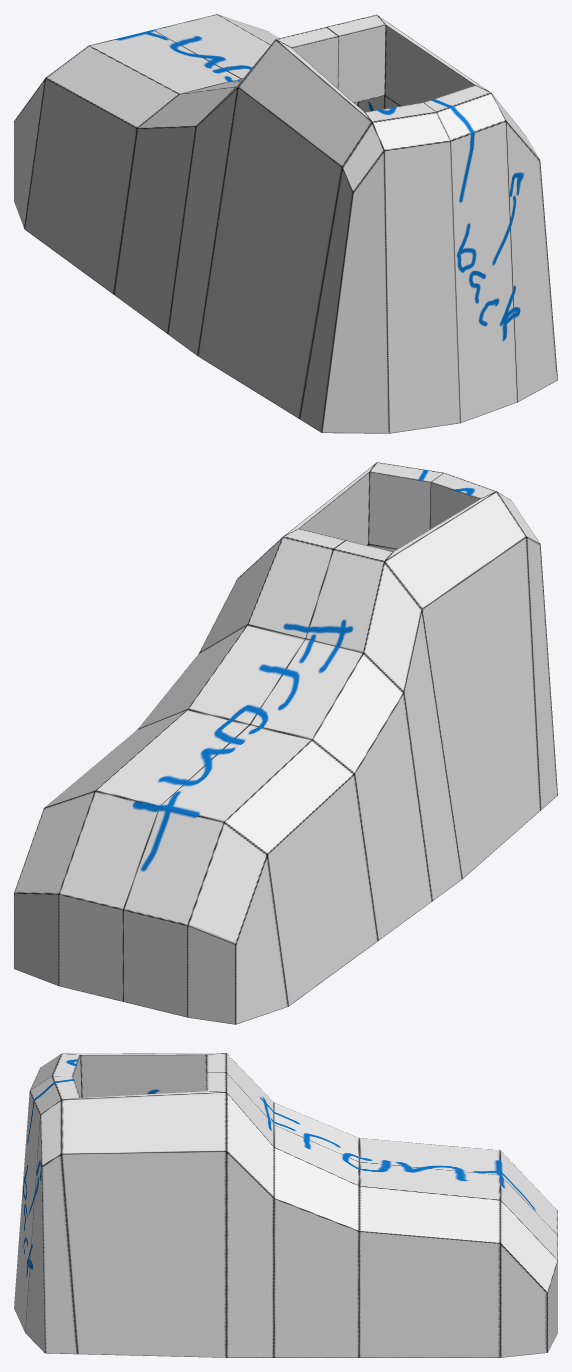
Rendered from sko.fbx.
The picture shows the model from 3 angles, top to bottom: view 1: azimuth 30°, elevation 25°; view 2: azimuth 150°, elevation 25°; view 3: azimuth 270°, elevation 25°; orthographic projection. The views are drawn at different scales.
Parts seen in each view (by area): view 1: Cube; view 2: Cube; view 3: Cube.
Boxes of the visible parts, x1=… form: Cube: x1=14, y1=14, x2=557, y2=433; Cube: x1=14, y1=462, x2=557, y2=1024; Cube: x1=14, y1=1053, x2=557, y2=1357.
Bounding box in the file's own units: 186 × 206 × 431.
